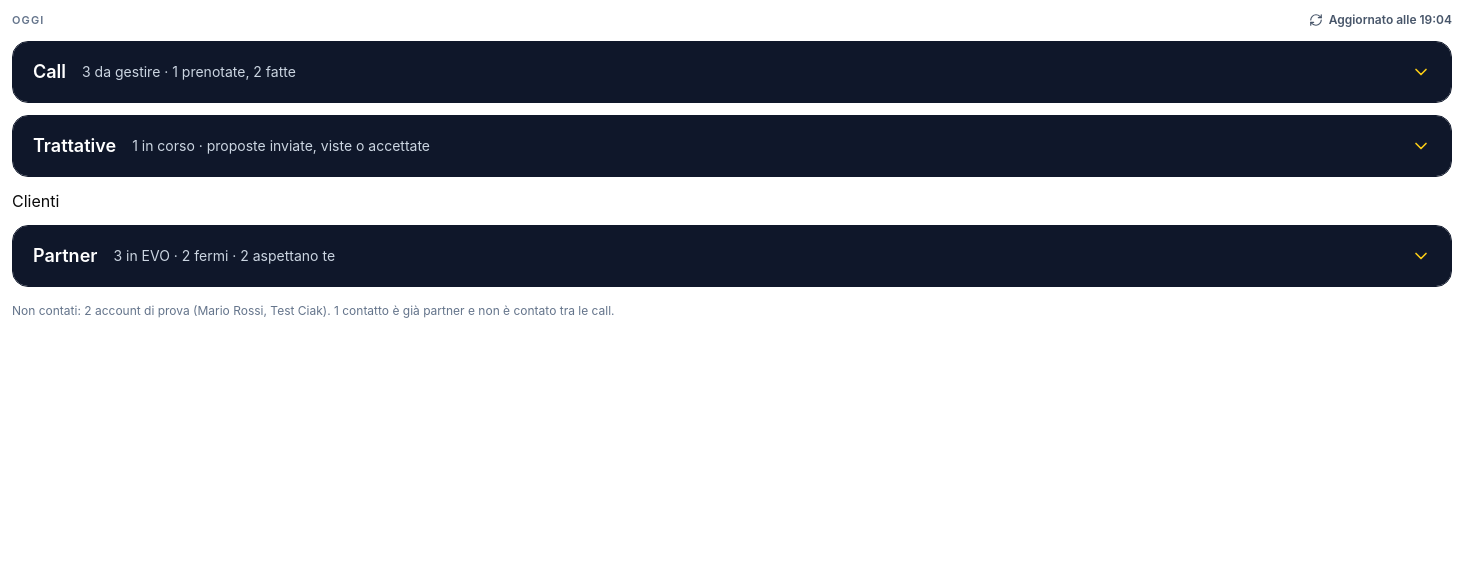
Test: quattro riquadri nell'ordine Call, Trattative, Clienti, Partner; partono chiusi e si aprono con la freccia
This screenshot has width=1464, height=576.
Check: the link "Chiara Ferri" is not shown
What coordinates should you click on to do the following:
click the button "Call"
I would click on:
 (50, 72)
Its box is [33,58,66,86].
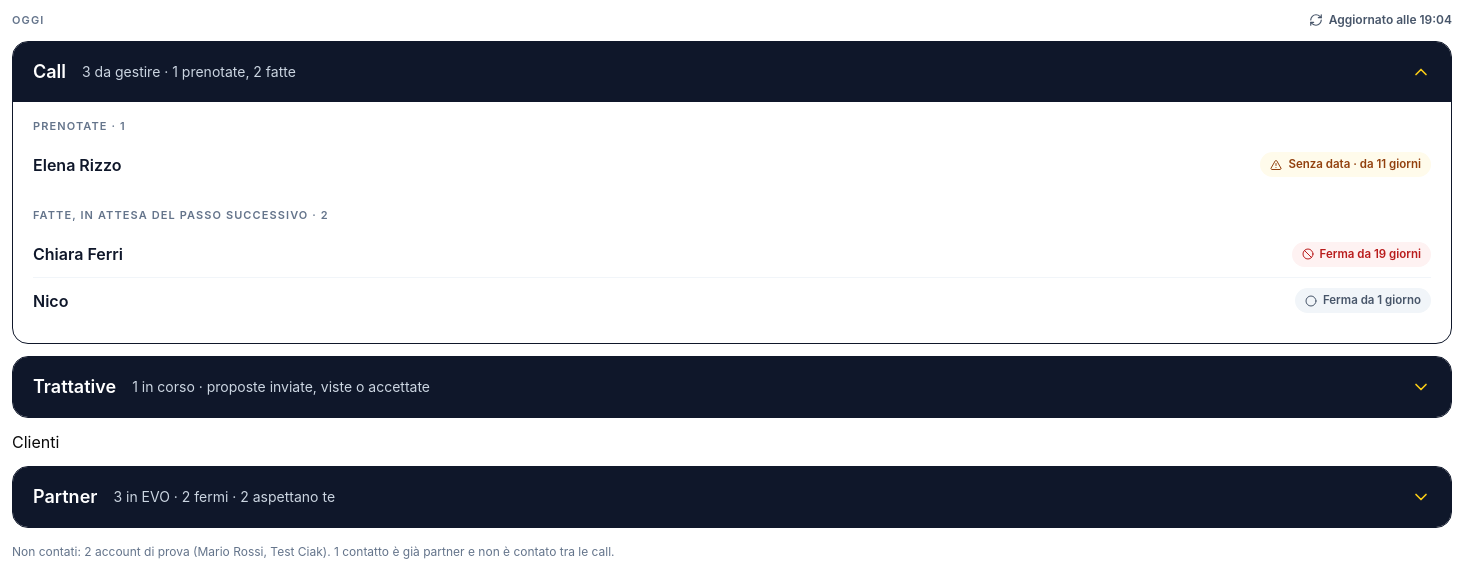
Check: the link "Chiara Ferri" is shown, box [33,242,123,266]
What coordinates should you click on to do the following:
click the button "Call"
I would click on:
 (50, 72)
Its box is [33,58,66,86].
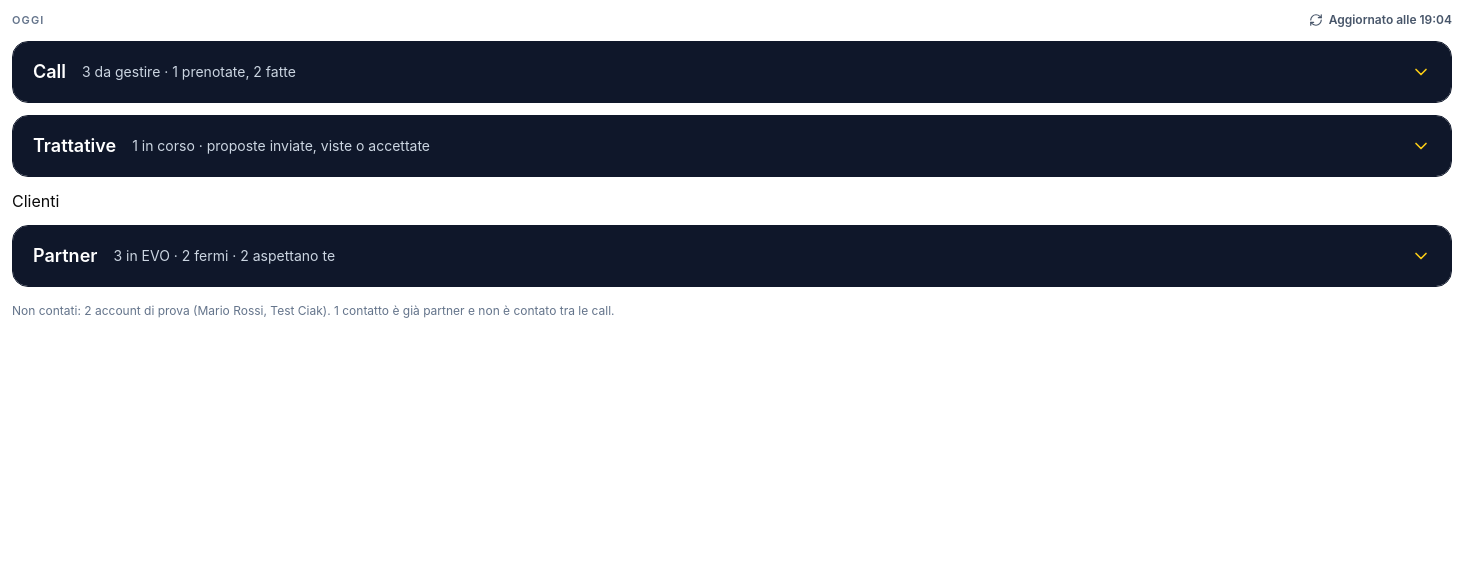
Check: the link "Chiara Ferri" is gone
